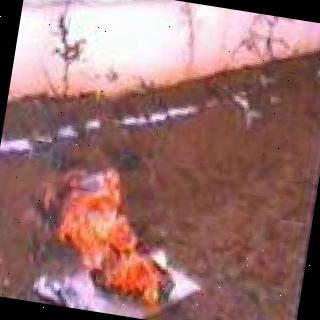fire: (30, 161, 194, 320)
